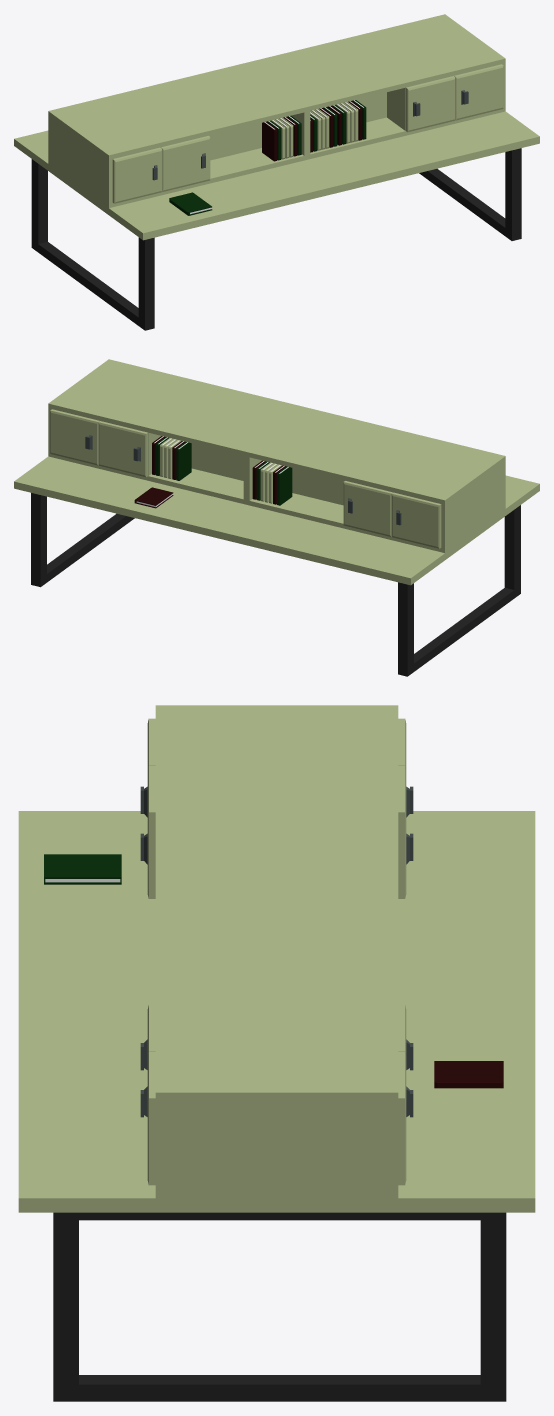
Rendered from Escritorio.fbx.
3 views of the same model, one above another, from view 1: azimuth 30°, elevation 25°; view 2: azimuth 150°, elevation 25°; view 3: azimuth 270°, elevation 25° (orthographic). The views are drawn at different scales.
Visible parts, largest first — view 1: MesaEscritorio, PataMesaEscritorio, Pata2MesaEscritorio, Libro, Libro8; view 2: MesaEscritorio, PataMesaEscritorio, Pata2MesaEscritorio, Libro023, Libro030, Libro037; view 3: MesaEscritorio, Pata2MesaEscritorio, Libro, Libro037.
Part boxes in pixels (x1,y1,x2,y2): MesaEscritorio: [14, 14, 539, 240]; PataMesaEscritorio: [31, 159, 154, 330]; Pata2MesaEscritorio: [419, 148, 521, 240]; Libro: [169, 192, 212, 215]; Libro8: [262, 121, 277, 161]; MesaEscritorio: [14, 359, 539, 585]; PataMesaEscritorio: [398, 505, 520, 676]; Pata2MesaEscritorio: [31, 493, 134, 587]; Libro023: [176, 442, 191, 480]; Libro030: [277, 466, 292, 505]; Libro037: [134, 487, 173, 508]; MesaEscritorio: [18, 705, 535, 1212]; Pata2MesaEscritorio: [53, 1212, 506, 1401]; Libro: [44, 854, 121, 884]; Libro037: [434, 1061, 503, 1088].
Bounding box in the file's own units: 33.47 × 12.83 × 18.87.
